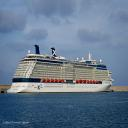cruises: (7, 45, 116, 95)
